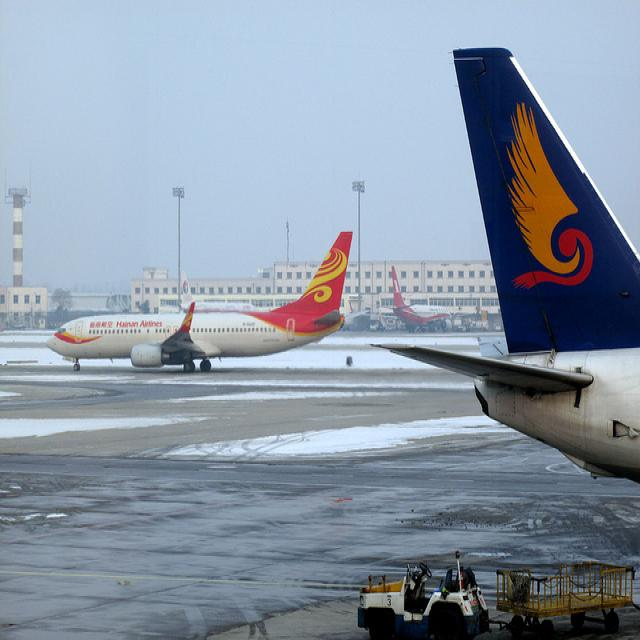airplane: (367, 43, 640, 487), (43, 229, 354, 374), (378, 264, 459, 334)
